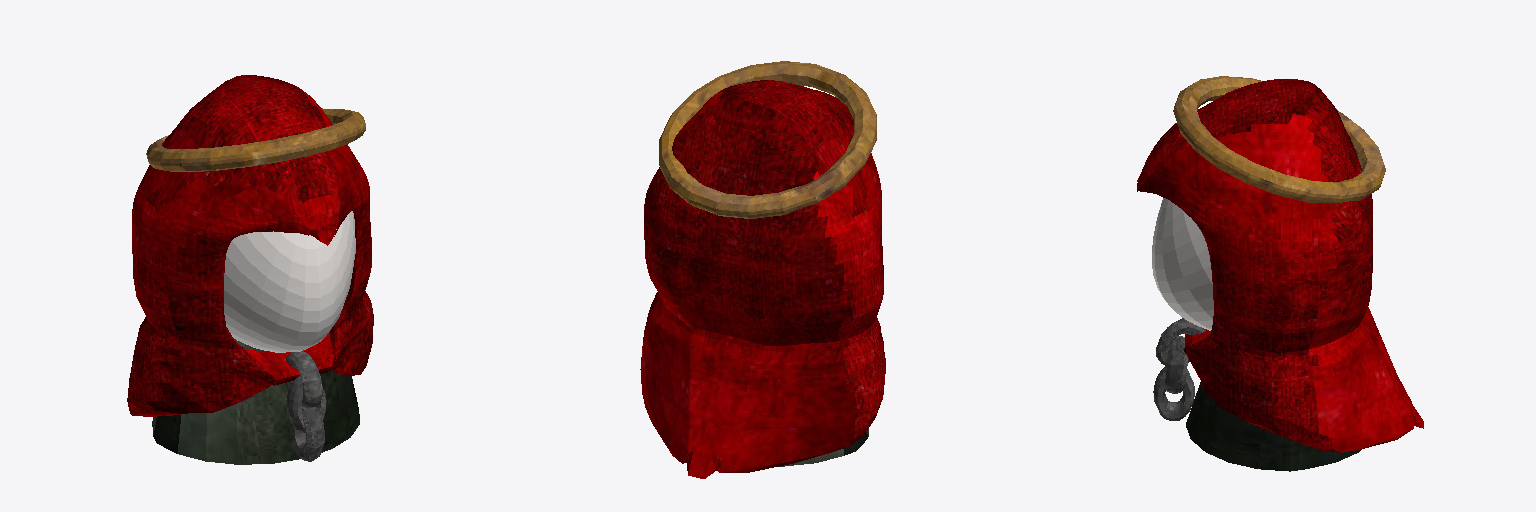
3 renders of one model, left to right at view 1: azimuth 30°, elevation 25°; view 2: azimuth 150°, elevation 25°; view 3: azimuth 270°, elevation 25°, orthographic.
Parts seen in each view (by area): view 1: polySurface1; view 2: polySurface1; view 3: polySurface1.
Boxes of the visible parts, x1,y1,x2,y2 form: polySurface1: [127, 75, 373, 464]; polySurface1: [640, 61, 885, 478]; polySurface1: [1137, 76, 1423, 471].
Size of the model in its own units: 1.03 by 1.43 by 1.1.
Materials: 1 (1 with a texture image).